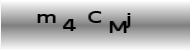4: (61, 17, 77, 32)
C: (87, 9, 103, 24)
M: (108, 19, 127, 34)
j: (124, 11, 131, 28)
m: (35, 12, 57, 24)
